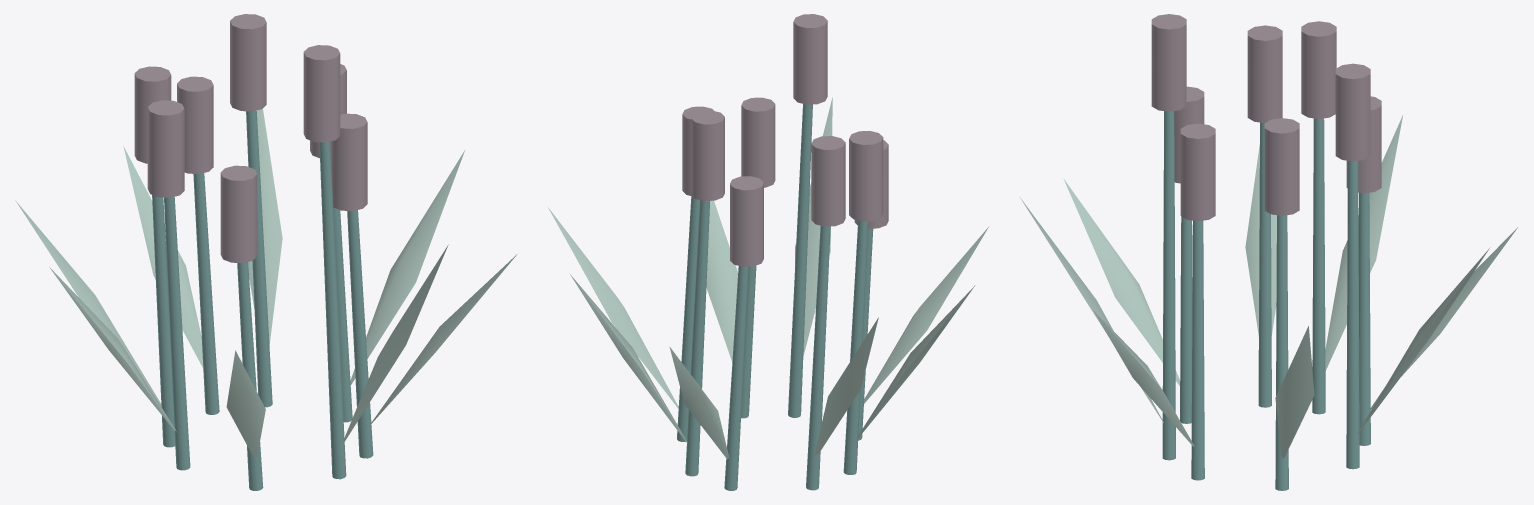
Rendered from plant-reeds-snowy.glb.
The picture shows the model from 3 angles, left to right: view 1: azimuth 30°, elevation 25°; view 2: azimuth 150°, elevation 25°; view 3: azimuth 270°, elevation 25°; orthographic projection. The views are drawn at different scales.
Parts seen in each view (by area): view 1: plant-reeds-kit-snowy-green, plant-reeds-kit-snowy-wood, plant-reeds-kit-snowy-leaf; view 2: plant-reeds-kit-snowy-wood, plant-reeds-kit-snowy-green, plant-reeds-kit-snowy-leaf; view 3: plant-reeds-kit-snowy-green, plant-reeds-kit-snowy-wood, plant-reeds-kit-snowy-leaf.
Boxes of the visible parts, bbox=[...] form: plant-reeds-kit-snowy-green: bbox=[152, 110, 373, 490]; plant-reeds-kit-snowy-wood: bbox=[134, 14, 367, 263]; plant-reeds-kit-snowy-leaf: bbox=[15, 108, 517, 456]; plant-reeds-kit-snowy-wood: bbox=[682, 14, 888, 266]; plant-reeds-kit-snowy-green: bbox=[677, 104, 873, 490]; plant-reeds-kit-snowy-leaf: bbox=[547, 97, 988, 459]; plant-reeds-kit-snowy-green: bbox=[1162, 111, 1370, 490]; plant-reeds-kit-snowy-wood: bbox=[1151, 14, 1381, 221]; plant-reeds-kit-snowy-leaf: bbox=[1020, 114, 1517, 458].
Bounding box in the file's own units: 1.79 × 1.66 × 1.77.
